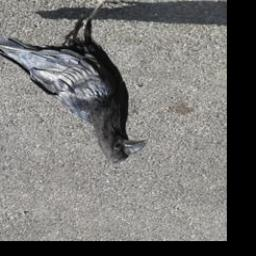Crow: (0, 0, 148, 166)
